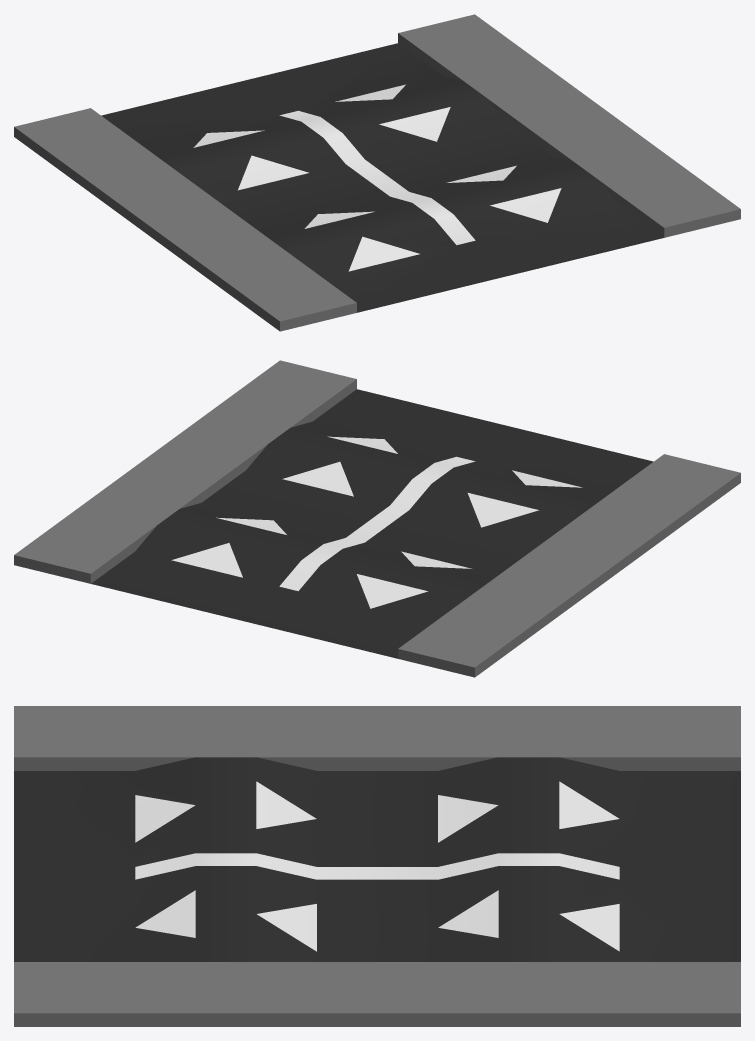
Rendered from RoadSpeedhumps.fbx.
3 views of the same model, one above another, from view 1: azimuth 30°, elevation 25°; view 2: azimuth 150°, elevation 25°; view 3: azimuth 270°, elevation 25° (orthographic). The views are drawn at different scales.
Parts seen in each view (by area): view 1: RoadSpeedHumps, Pavement; view 2: RoadSpeedHumps, Pavement; view 3: RoadSpeedHumps, Pavement.
Boxes of the visible parts, left/top/right/bottom form: RoadSpeedHumps: left=101, top=43, right=663, bottom=312; Pavement: left=14, top=14, right=740, bottom=331; RoadSpeedHumps: left=91, top=389, right=653, bottom=658; Pavement: left=14, top=360, right=740, bottom=677; RoadSpeedHumps: left=14, top=757, right=740, bottom=961; Pavement: left=14, top=706, right=740, bottom=1026.
Size of the model in its own units: 24 by 0.5 by 24.
1 material, 1 textured.
